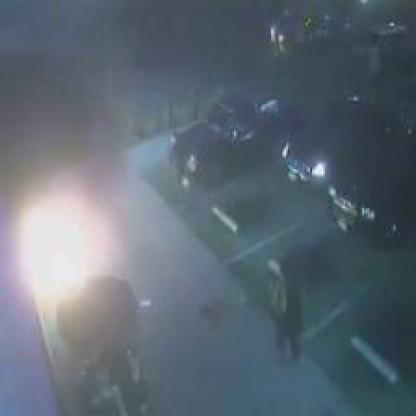fire: (13, 188, 111, 310)
